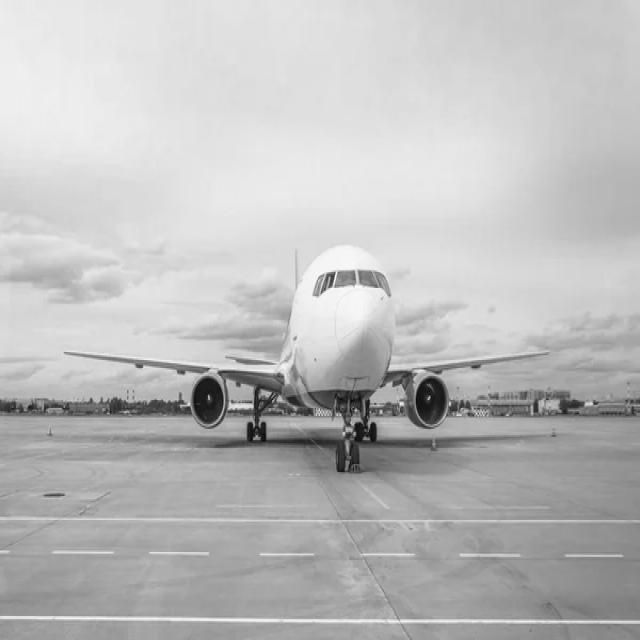Aircraft: (55, 210, 556, 484)
